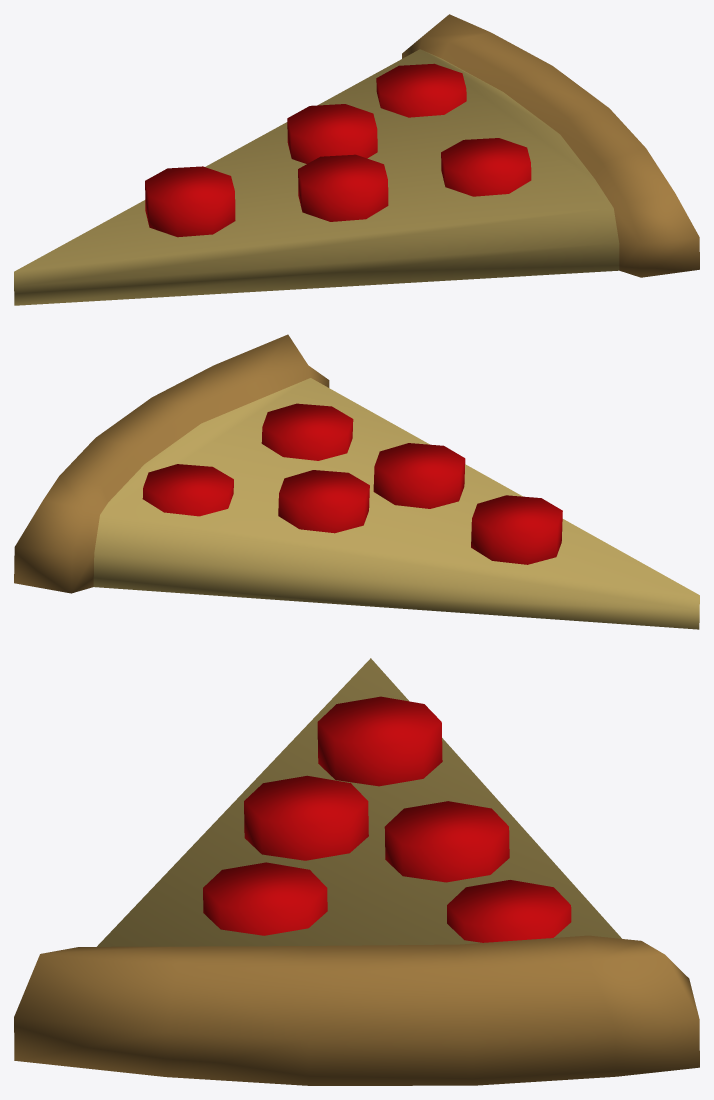
File: pizza.fbx
The picture shows the model from 3 angles, top to bottom: view 1: azimuth 30°, elevation 25°; view 2: azimuth 150°, elevation 25°; view 3: azimuth 270°, elevation 25°; orthographic projection. The views are drawn at different scales.
Parts seen in each view (by area): view 1: pizza; view 2: pizza; view 3: pizza.
Part boxes in pixels (x1,y1,x2,y2): pizza: (14,14,699,305); pizza: (14,334,699,629); pizza: (14,658,699,1085).
Size of the model in its own units: 72.64 by 9.12 by 55.1.
